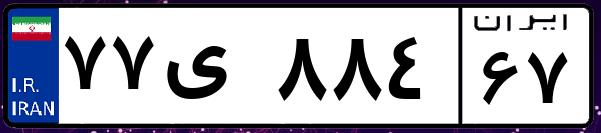4: (385, 28, 445, 110)
6: (475, 38, 525, 113)
7: (57, 26, 110, 100), (525, 38, 570, 115), (110, 28, 158, 98)
8: (270, 28, 330, 110), (330, 28, 385, 110)
ی: (158, 20, 270, 120)
